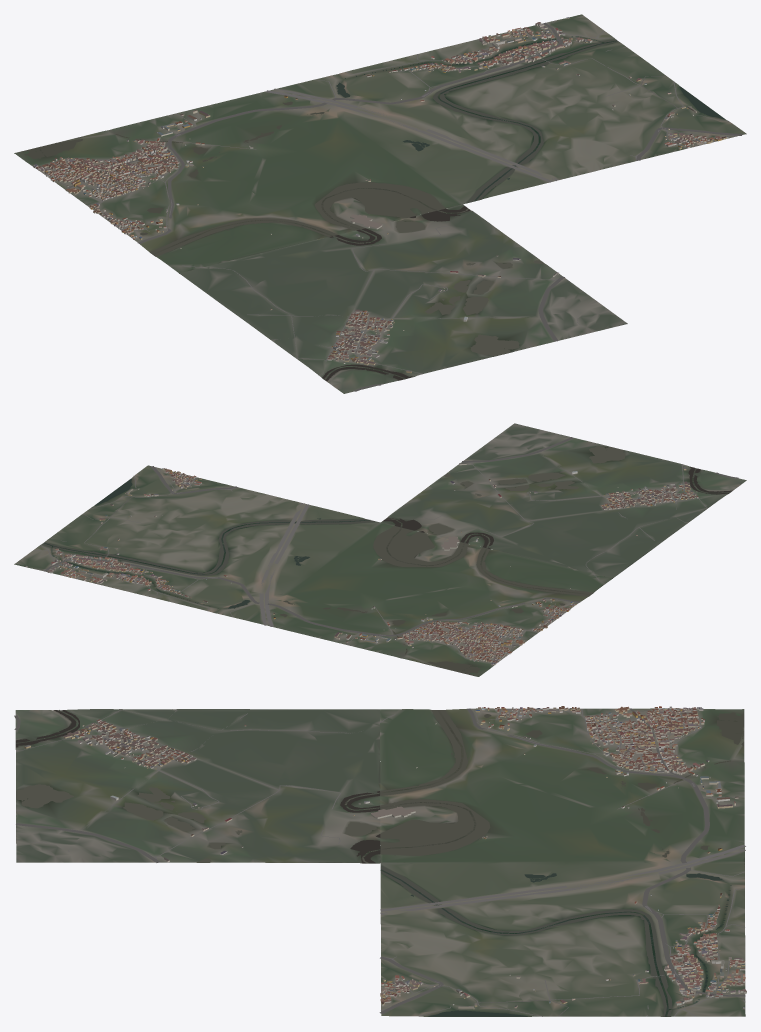
3 views of the same model, one above another, from view 1: azimuth 30°, elevation 25°; view 2: azimuth 150°, elevation 25°; view 3: azimuth 270°, elevation 25° (orthographic). The views are drawn at different scales.
Visible parts, largest first — view 1: ground, water, buildings, roads; view 2: ground, water, buildings, roads; view 3: ground, water, buildings, roads.
Part boxes in pixels (box(x1,y1,x2,y2)): ground: box(14, 14, 746, 393); water: box(20, 36, 725, 380); buildings: box(33, 17, 728, 373); roads: box(38, 20, 742, 391); ground: box(14, 423, 746, 676); water: box(42, 446, 732, 675); buildings: box(25, 463, 698, 665); roads: box(33, 430, 738, 662); ground: box(15, 708, 745, 1016); water: box(16, 710, 744, 1016); buildings: box(24, 706, 746, 1009); roads: box(14, 708, 745, 1016).
Bounding box in the file's own units: 2810 × 25.13 × 2820.
